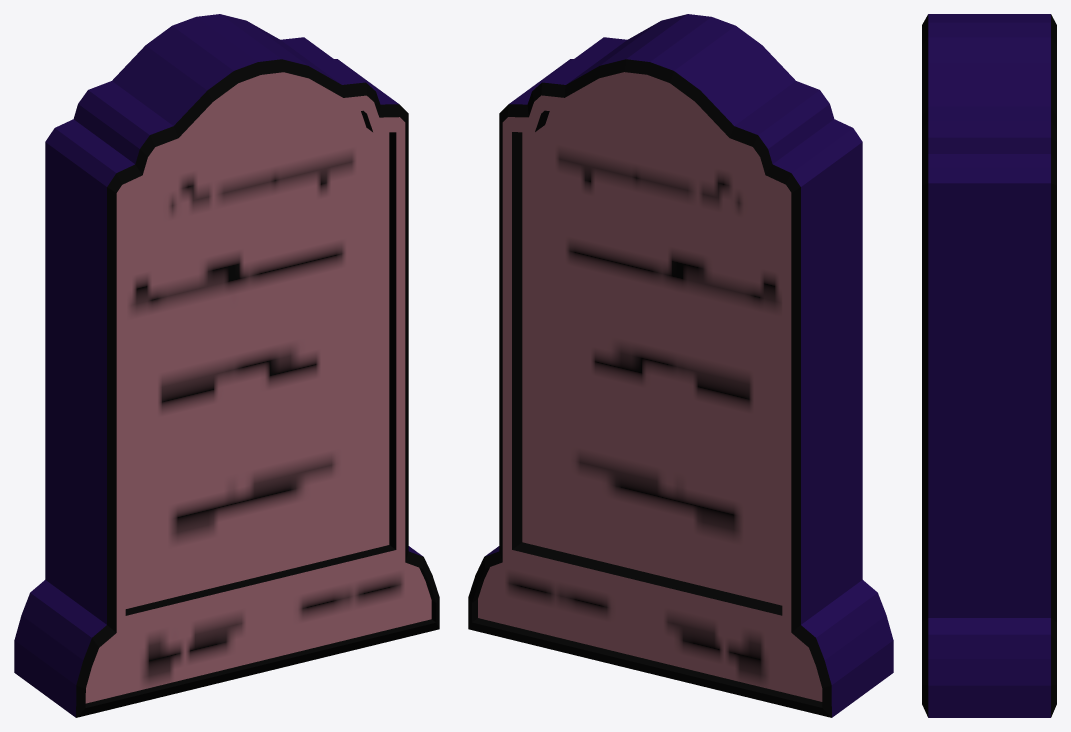
File: Grave_GJ.fbx
The picture shows the model from 3 angles, left to right: view 1: azimuth 30°, elevation 25°; view 2: azimuth 150°, elevation 25°; view 3: azimuth 270°, elevation 25°; orthographic projection.
Visible parts, largest first — view 1: Grave; view 2: Grave; view 3: Grave.
Boxes of the visible parts, left/top/right/bottom form: Grave: left=14, top=14, right=439, bottom=717; Grave: left=468, top=14, right=893, bottom=717; Grave: left=922, top=14, right=1056, bottom=717.
Bounding box in the file's own units: 286 × 459 × 92.36.
